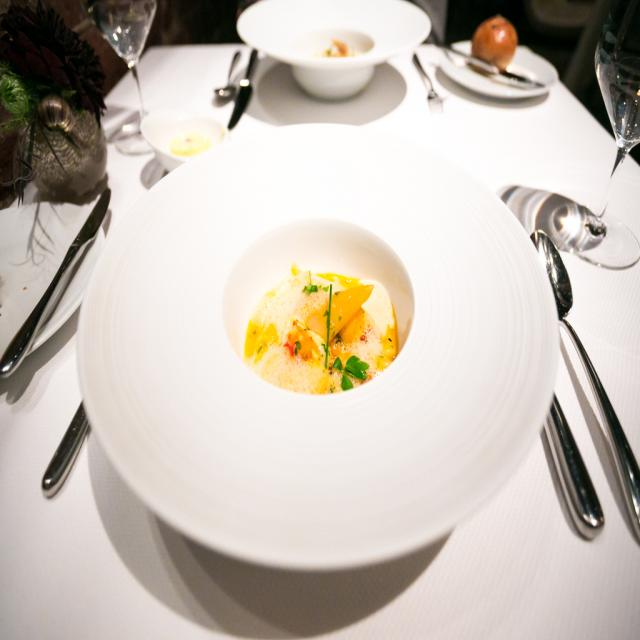non-organic waste: (72, 144, 557, 606)
